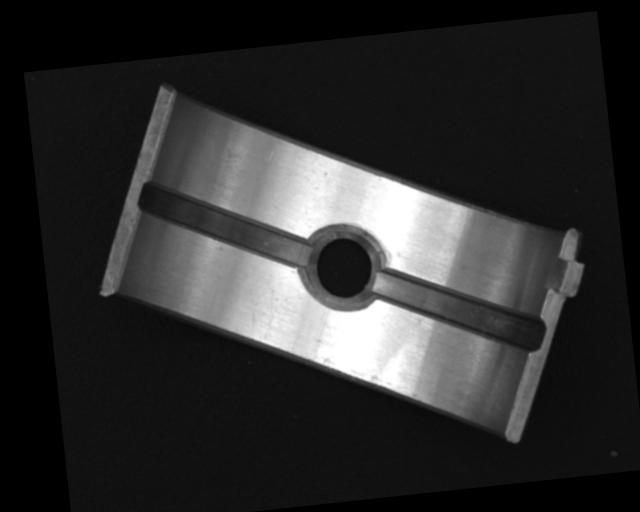gap: (137, 166, 311, 286), (372, 254, 544, 368)
hole: (303, 219, 383, 315)
